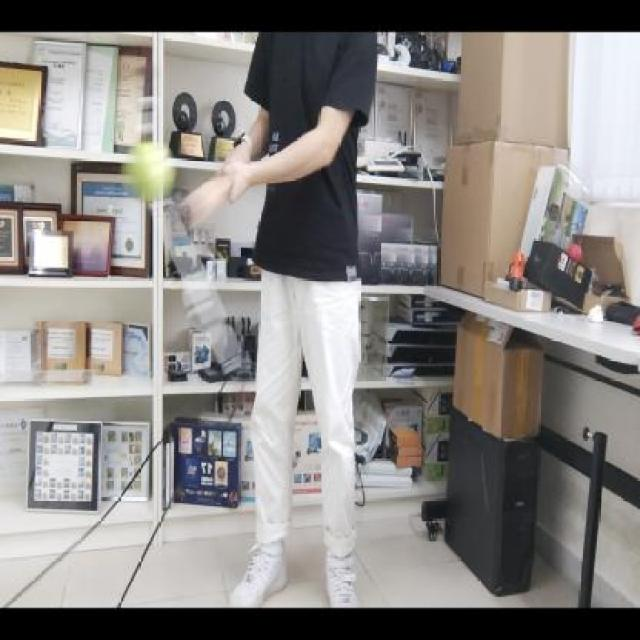baseball: (125, 138, 173, 204)
